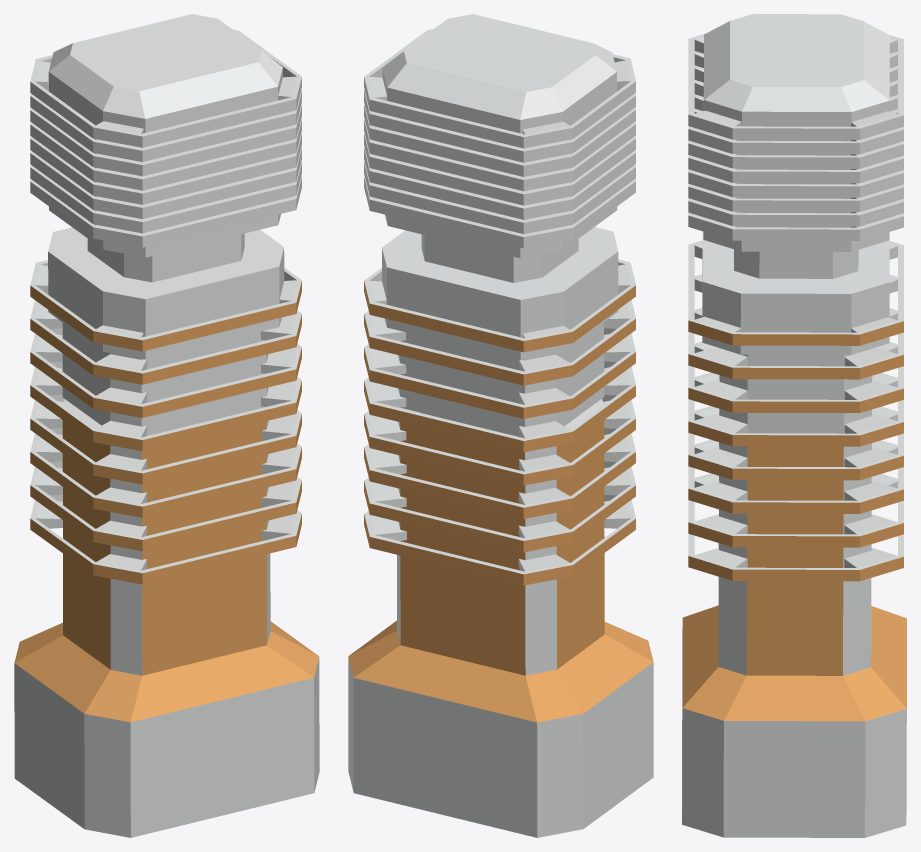
File: Pillar.fbx
The picture shows the model from 3 angles, left to right: view 1: azimuth 30°, elevation 25°; view 2: azimuth 150°, elevation 25°; view 3: azimuth 270°, elevation 25°; orthographic projection.
Parts seen in each view (by area): view 1: Cube.001; view 2: Cube.001; view 3: Cube.001.
Boxes of the visible parts, x1,y1,x2,y2 form: Cube.001: (14, 14, 319, 837); Cube.001: (348, 14, 653, 837); Cube.001: (682, 14, 906, 837).
Bounding box in the file's own units: 9597 × 28191 × 7869.
